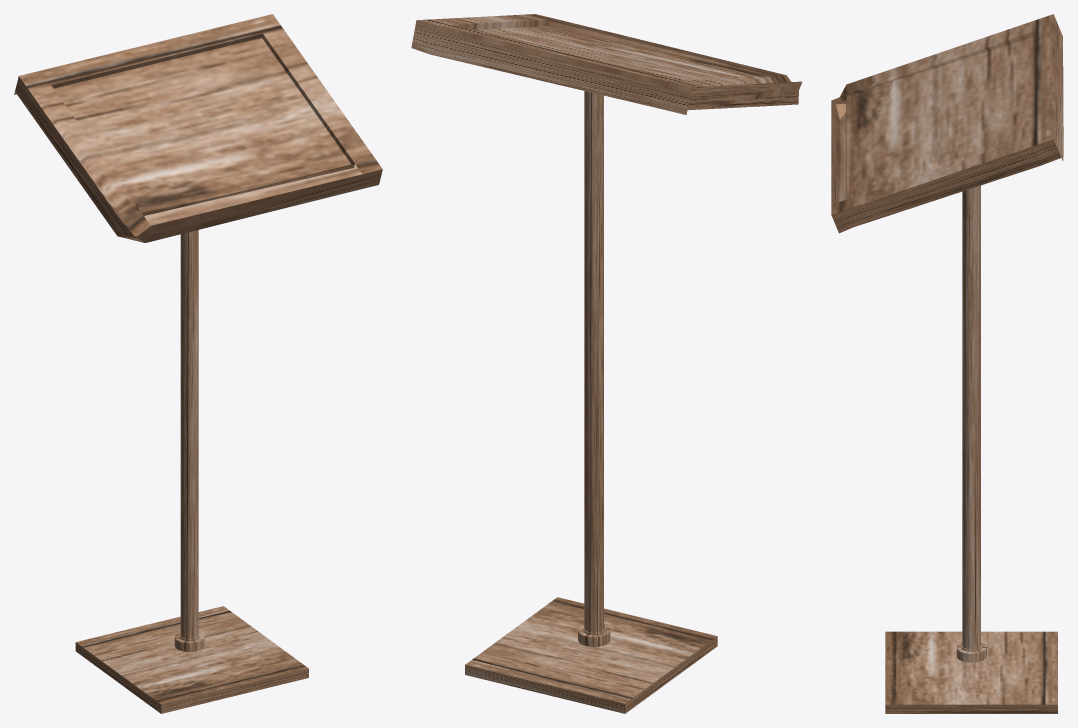
File: letrero.obj
3 views of the same model, side by side, from view 1: azimuth 30°, elevation 25°; view 2: azimuth 150°, elevation 25°; view 3: azimuth 270°, elevation 25° (orthographic). The views are drawn at different scales.
Visible parts, largest first — view 1: pCube2, pCube1, pCylinder3; view 2: pCube2, pCube1, pCylinder3; view 3: pCube2, pCube1, pCylinder3.
Part boxes in pixels (bbox=[...]): pCube2: bbox=[14, 14, 382, 242]; pCube1: bbox=[75, 606, 308, 713]; pCylinder3: bbox=[174, 230, 204, 651]; pCube2: bbox=[411, 14, 802, 114]; pCube1: bbox=[465, 597, 717, 713]; pCylinder3: bbox=[578, 91, 610, 646]; pCube2: bbox=[831, 14, 1063, 233]; pCube1: bbox=[885, 631, 1057, 713]; pCylinder3: bbox=[956, 185, 986, 662].
Size of the model in its own units: 0.4036 by 0.8949 by 0.3151.
1 material, 1 textured.
